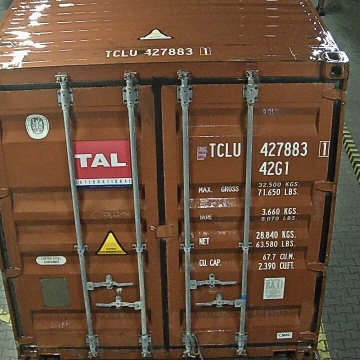serial_id: (209, 141, 329, 156)
